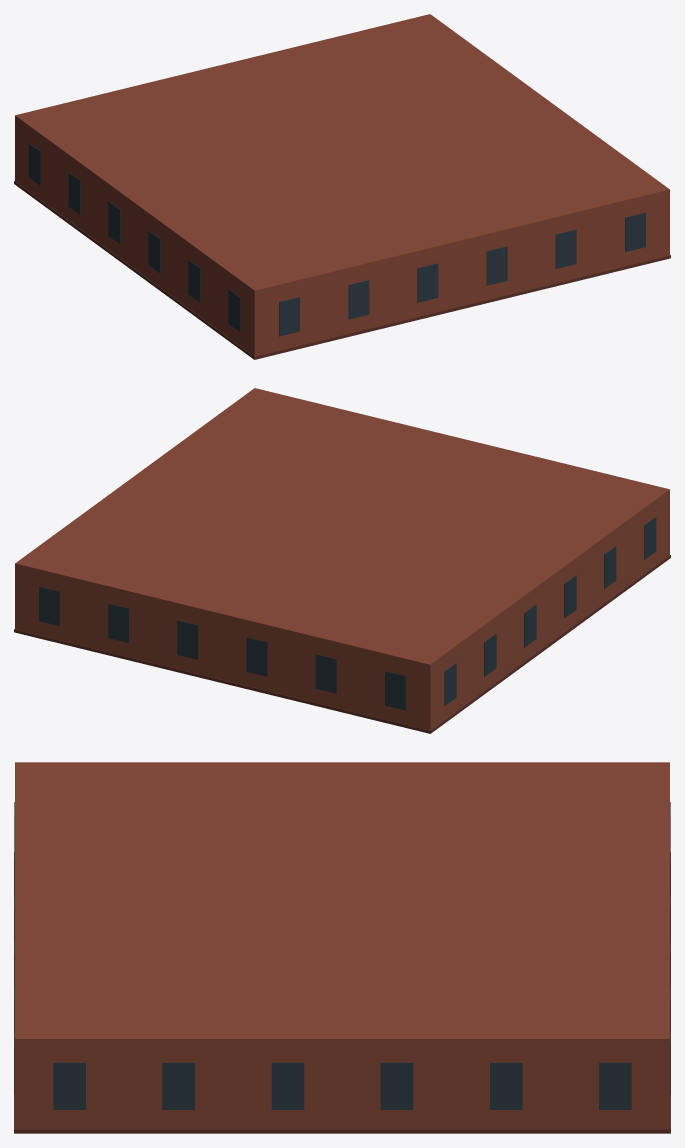
The model's file is tw_brick_24_floor_b_lod1.glb.
3 renders of one model, top to bottom at view 1: azimuth 30°, elevation 25°; view 2: azimuth 150°, elevation 25°; view 3: azimuth 270°, elevation 25°, orthographic. The views are drawn at different scales.
Visible parts, largest first — view 1: tw_brick_24_floor_b_lod1; view 2: tw_brick_24_floor_b_lod1; view 3: tw_brick_24_floor_b_lod1.
Part boxes in pixels (x1=…): tw_brick_24_floor_b_lod1: x1=14, y1=14, x2=670, y2=359; tw_brick_24_floor_b_lod1: x1=14, y1=388, x2=670, y2=733; tw_brick_24_floor_b_lod1: x1=14, y1=762, x2=670, y2=1133.
Bounding box in the file's own units: 24.08 × 3.8 × 24.08.
Materials: 1 (1 with a texture image).
